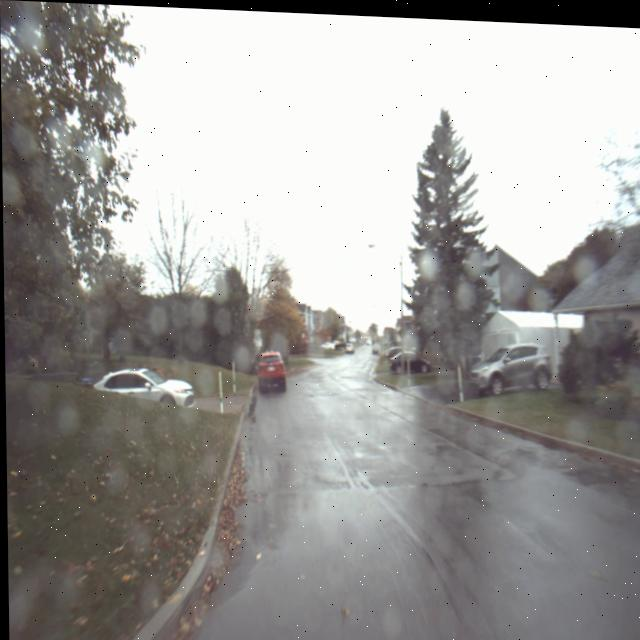car: (465, 313, 561, 398)
